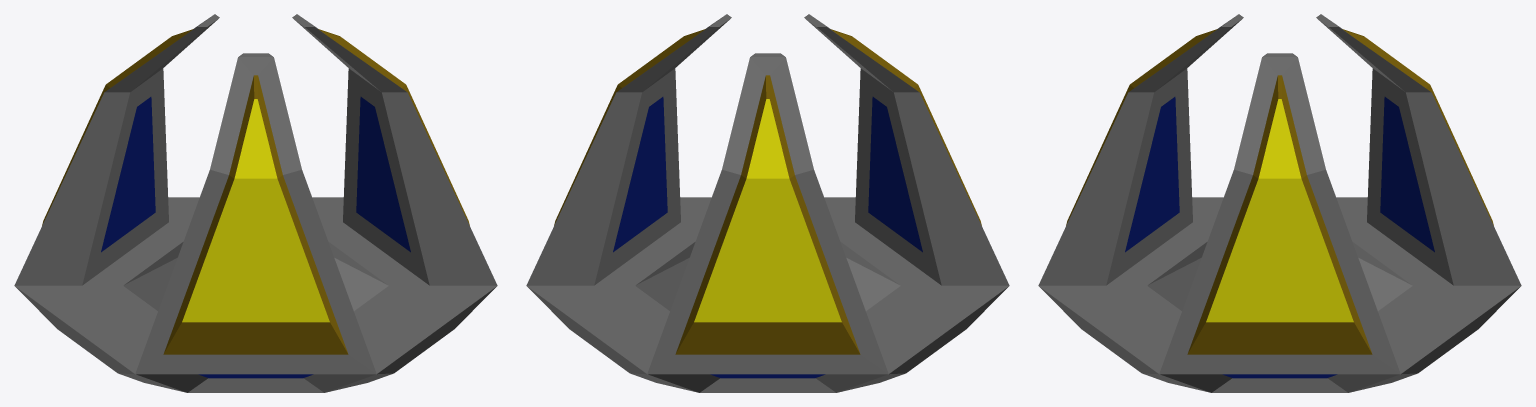
Rendered from 6sidedTowerTop.fbx.
3 renders of one model, left to right at view 1: azimuth 30°, elevation 25°; view 2: azimuth 150°, elevation 25°; view 3: azimuth 270°, elevation 25°, orthographic.
Parts seen in each view (by area): view 1: Cylinder; view 2: Cylinder; view 3: Cylinder.
Part boxes in pixels (<box>): Cylinder: <box>14,14,497,392</box>; Cylinder: <box>526,14,1009,392</box>; Cylinder: <box>1038,14,1521,392</box>.
Bounding box in the file's own units: 305 × 250 × 353.
